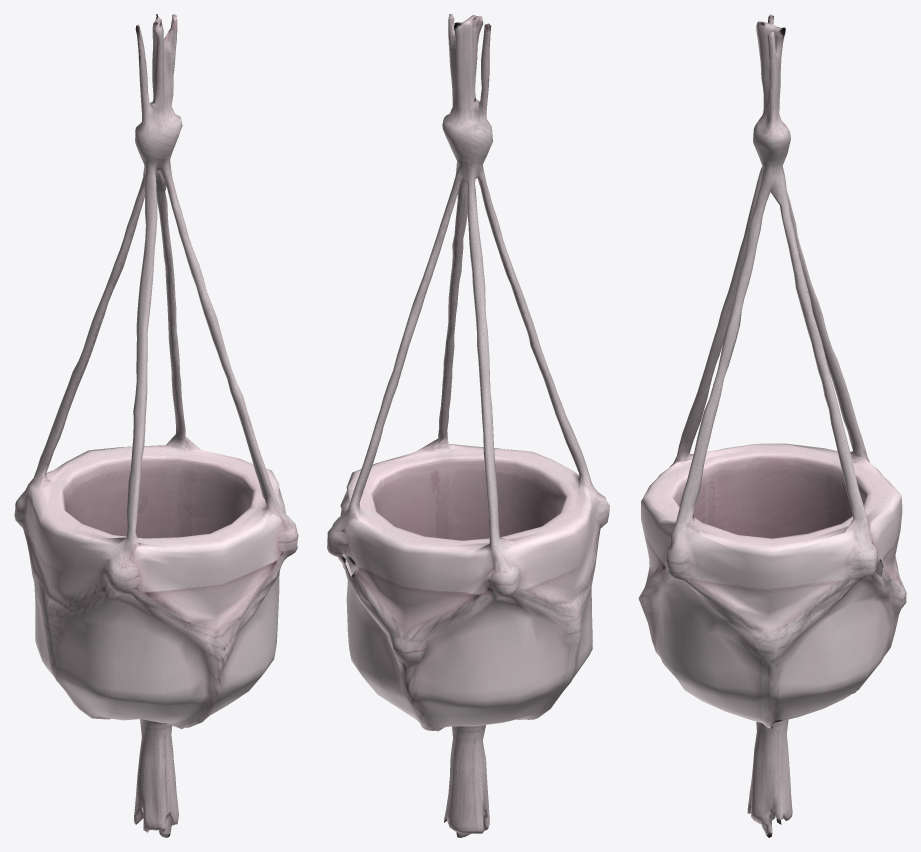
The model's file is pot_macrame_hanging_c2.glb.
The picture shows the model from 3 angles, left to right: view 1: azimuth 30°, elevation 25°; view 2: azimuth 150°, elevation 25°; view 3: azimuth 270°, elevation 25°; orthographic projection.
Parts seen in each view (by area): view 1: world; view 2: world; view 3: world.
Part boxes in pixels (x1=…): world: x1=14, y1=14, x2=298, y2=837; world: x1=327, y1=14, x2=609, y2=837; world: x1=638, y1=14, x2=906, y2=837.
Bounding box in the file's own units: 0.5832 × 2 × 0.6001.
1 material, 1 textured.
